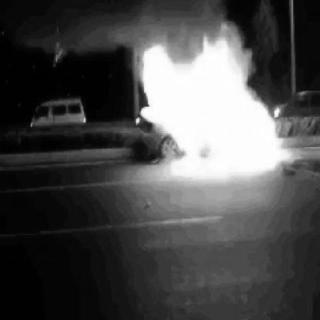Fire: (130, 30, 291, 178)
